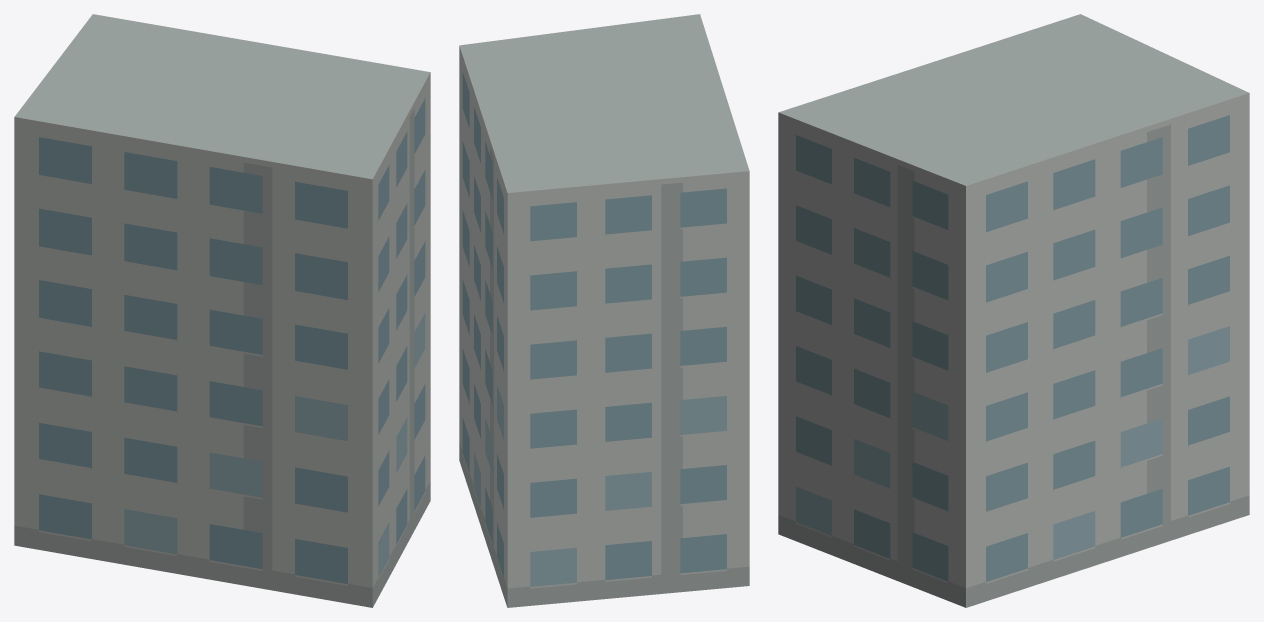
Rendered from survey-upis-32820182.glb.
The picture shows the model from 3 angles, left to right: view 1: azimuth 30°, elevation 25°; view 2: azimuth 150°, elevation 25°; view 3: azimuth 270°, elevation 25°; orthographic projection. The views are drawn at different scales.
Parts seen in each view (by area): view 1: survey-upis-32820182.tmp; view 2: survey-upis-32820182.tmp; view 3: survey-upis-32820182.tmp.
Boxes of the visible parts, x1,y1,x2,y2 form: survey-upis-32820182.tmp: (14,14,430,607); survey-upis-32820182.tmp: (459,14,749,607); survey-upis-32820182.tmp: (778,14,1249,607).
Size of the model in its own units: 16.01 by 18.3 by 18.53.
